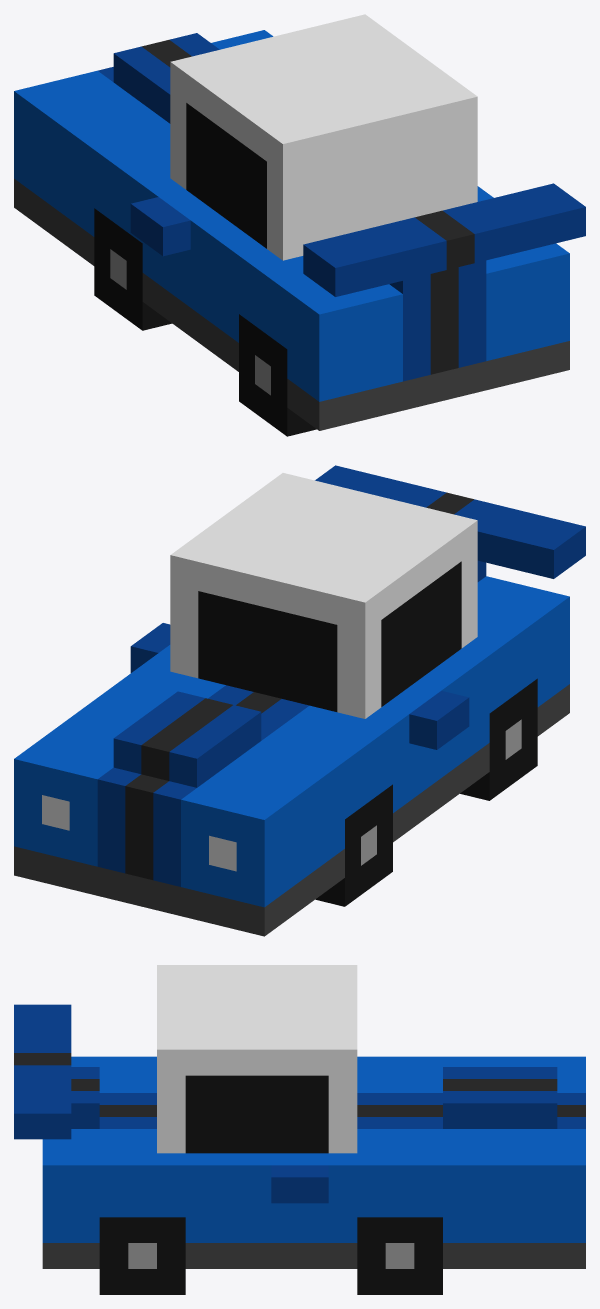
File: car_sport_2.obj
The picture shows the model from 3 angles, top to bottom: view 1: azimuth 30°, elevation 25°; view 2: azimuth 150°, elevation 25°; view 3: azimuth 270°, elevation 25°; orthographic projection. The views are drawn at different scales.
Visible parts, largest first — view 1: car_sport_2; view 2: car_sport_2; view 3: car_sport_2.
Boxes of the visible parts, left/top/right/bottom form: car_sport_2: left=14, top=14, right=585, bottom=436; car_sport_2: left=14, top=465, right=585, bottom=936; car_sport_2: left=14, top=965, right=585, bottom=1294.
Bounding box in the file's own units: 11 × 9 × 20.
1 material, 1 textured.
